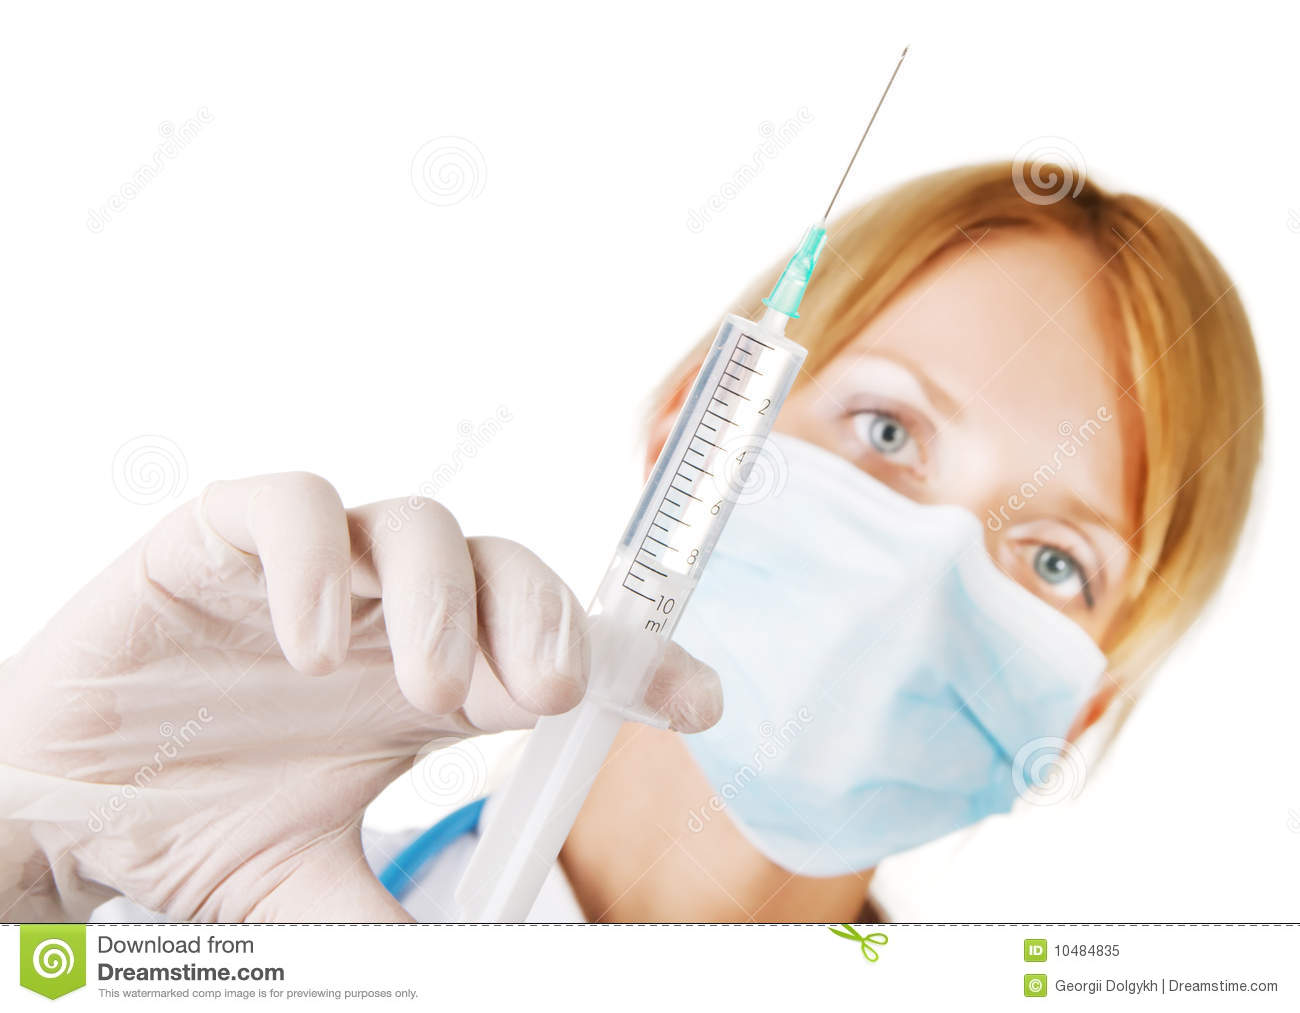mask: (648, 421, 1073, 887)
